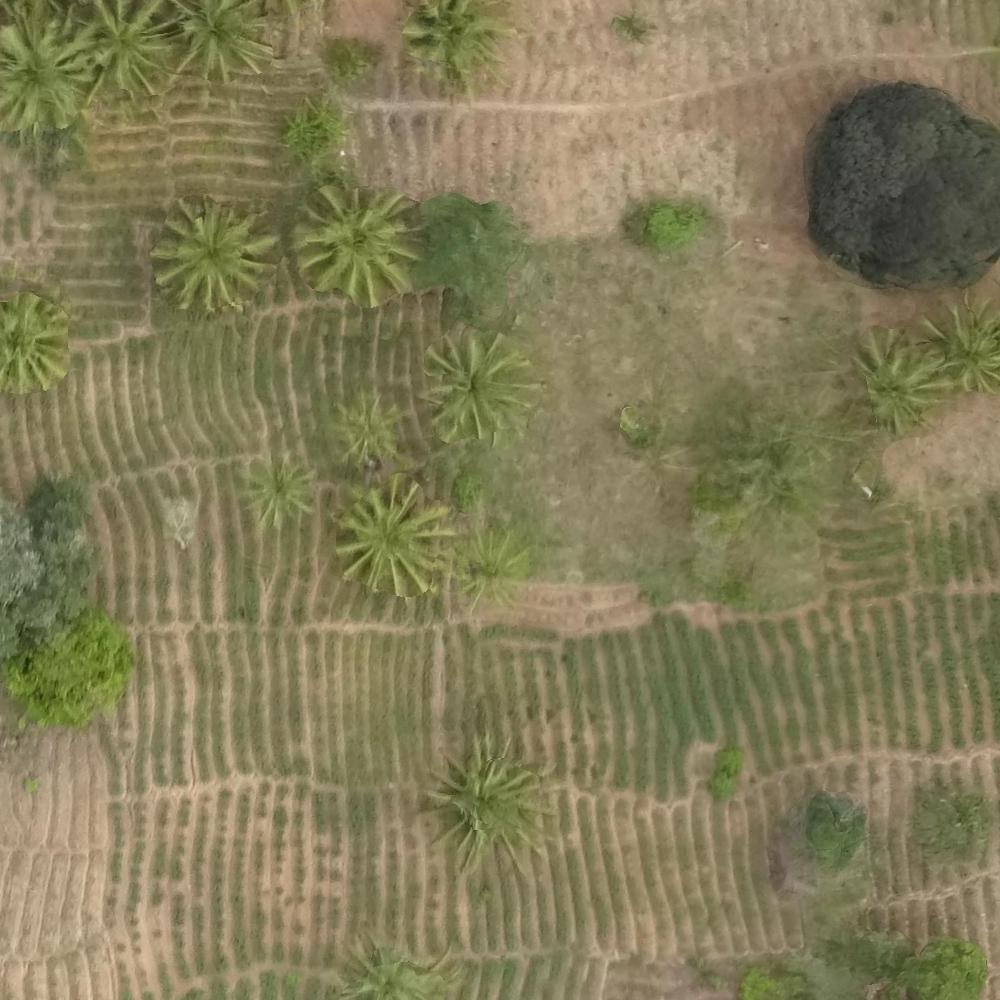Palm: (436, 735, 547, 869), (298, 185, 418, 307), (162, 198, 280, 310), (333, 482, 449, 593), (424, 332, 533, 446), (1, 9, 95, 123), (852, 330, 950, 433), (81, 1, 176, 95), (404, 1, 505, 86), (176, 1, 275, 83), (1, 293, 77, 399), (921, 294, 1000, 393), (240, 451, 315, 528), (332, 390, 401, 465)
